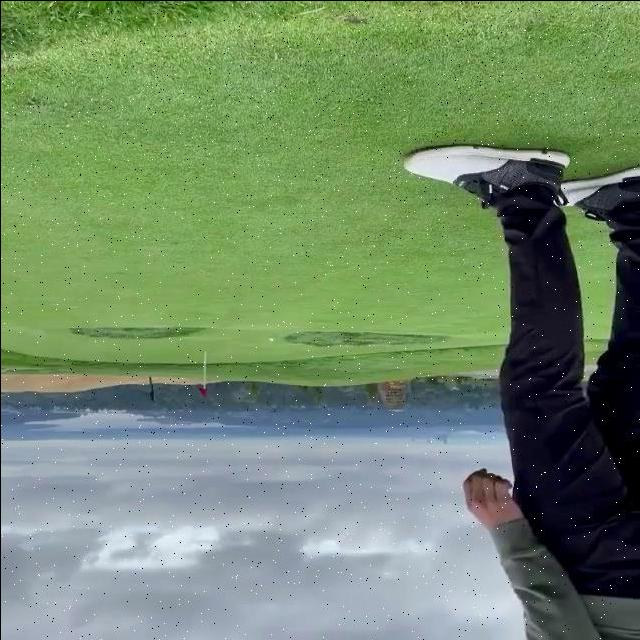golf ball: (268, 336, 274, 340)
